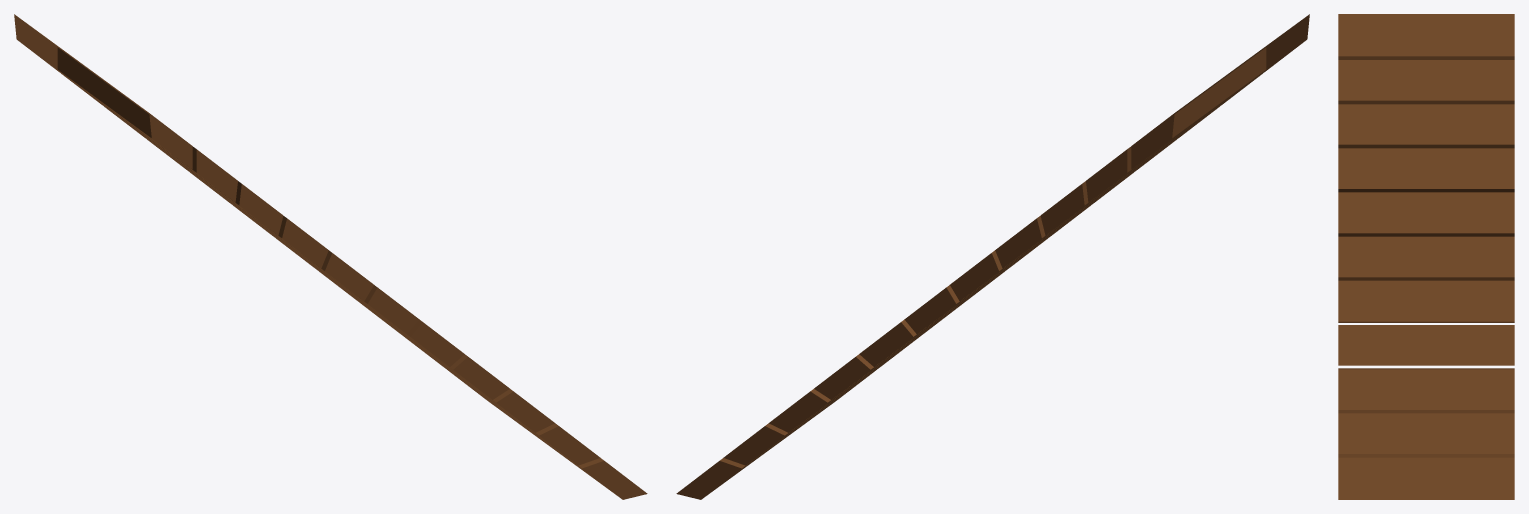
Rendered from Wooden_Plank.fbx.
3 views of the same model, side by side, from view 1: azimuth 30°, elevation 25°; view 2: azimuth 150°, elevation 25°; view 3: azimuth 270°, elevation 25° (orthographic). The views are drawn at different scales.
Visible parts, largest first — view 1: Wooden_Plank; view 2: Wooden_Plank; view 3: Wooden_Plank.
Part boxes in pixels (x1=…): Wooden_Plank: x1=14, y1=14, x2=647, y2=499; Wooden_Plank: x1=676, y1=14, x2=1309, y2=499; Wooden_Plank: x1=1338, y1=14, x2=1514, y2=499.
Size of the model in its own units: 120 by 115 by 56.25.
